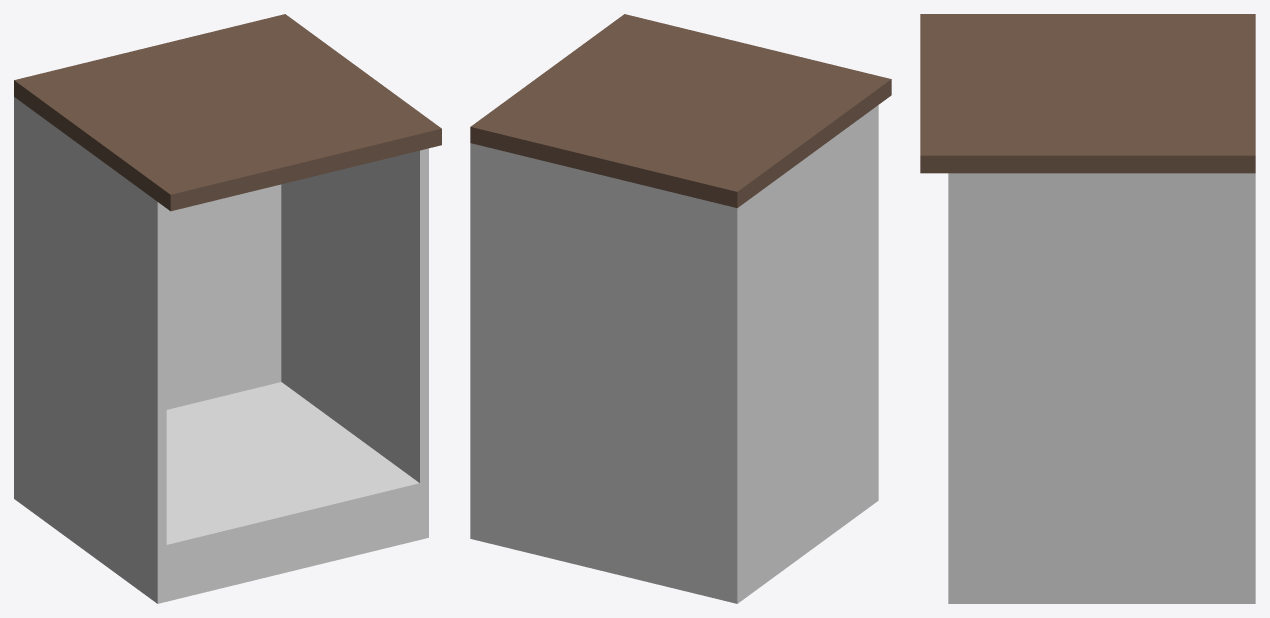
The model's file is Kitchen1_C1_01.fbx.
The picture shows the model from 3 angles, left to right: view 1: azimuth 30°, elevation 25°; view 2: azimuth 150°, elevation 25°; view 3: azimuth 270°, elevation 25°; orthographic projection. The views are drawn at different scales.
Parts seen in each view (by area): view 1: Kitchen1_C1_01; view 2: Kitchen1_C1_01; view 3: Kitchen1_C1_01.
Part boxes in pixels (x1=…): Kitchen1_C1_01: x1=14, y1=14, x2=441, y2=603; Kitchen1_C1_01: x1=470, y1=14, x2=891, y2=603; Kitchen1_C1_01: x1=920, y1=14, x2=1255, y2=603.
Bounding box in the file's own units: 60 × 88.5 × 60.
